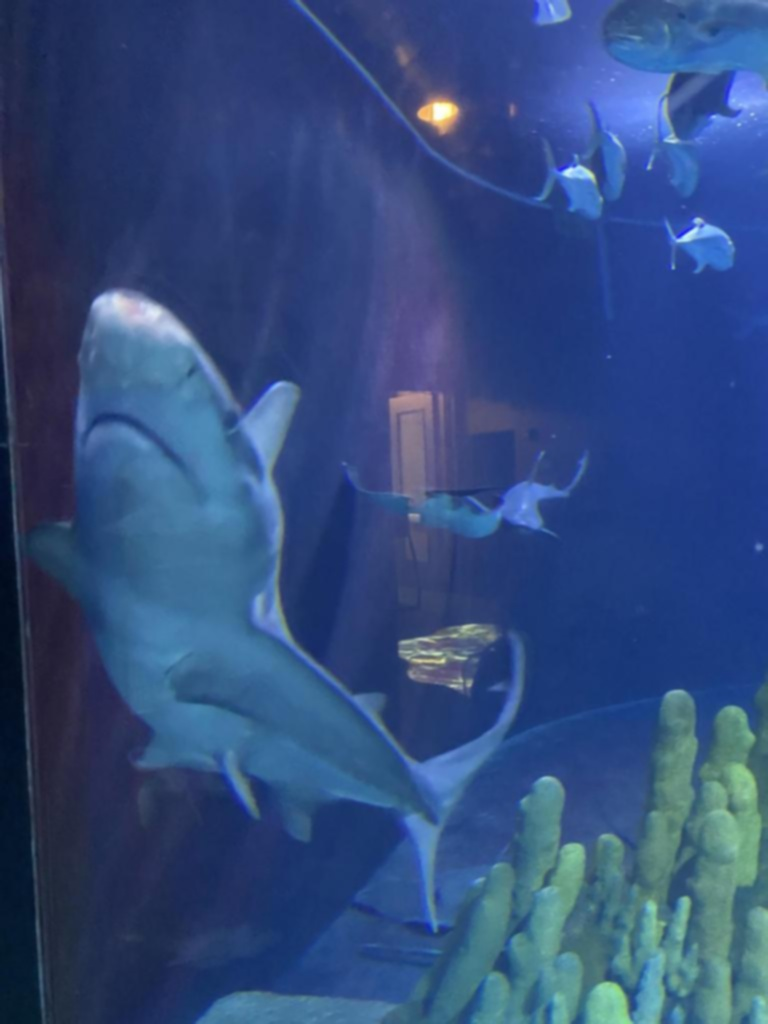fish: (590, 4, 768, 100), (536, 152, 602, 224), (650, 123, 704, 203), (662, 223, 738, 277), (584, 119, 634, 199)
shark: (32, 285, 526, 925)
